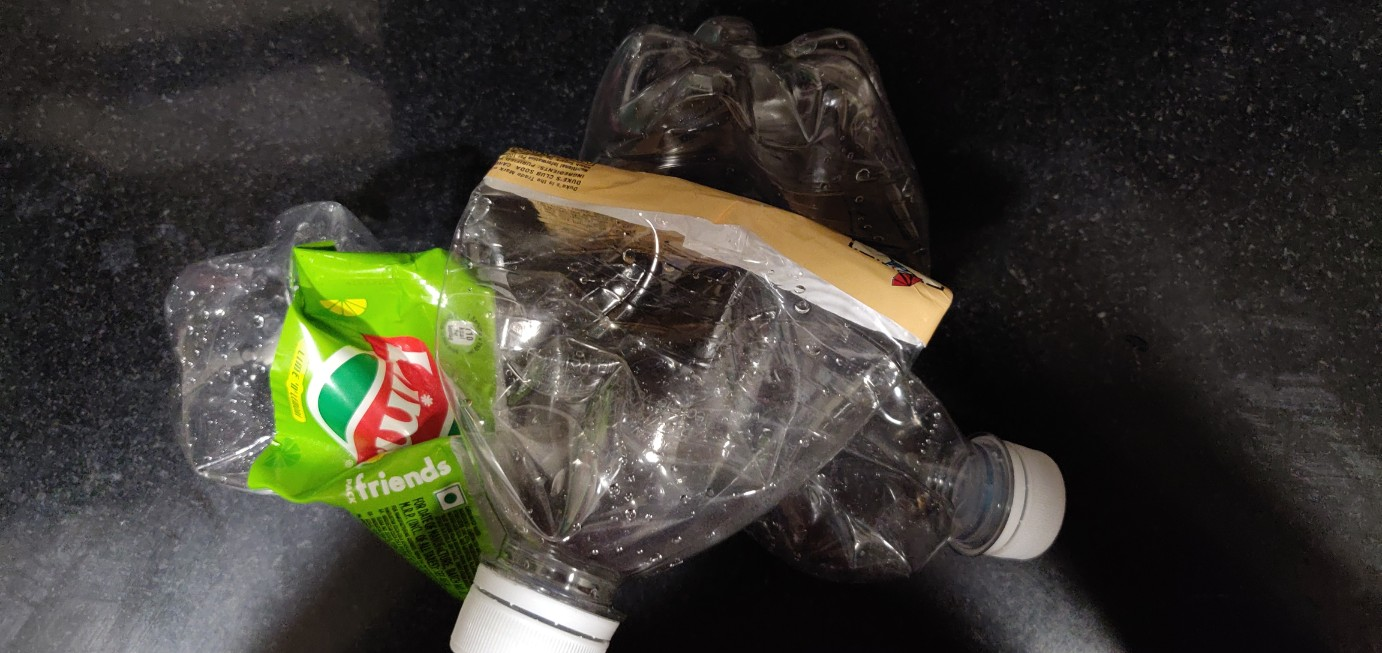Electronics: (138, 154, 1126, 622), (390, 1, 967, 653)
